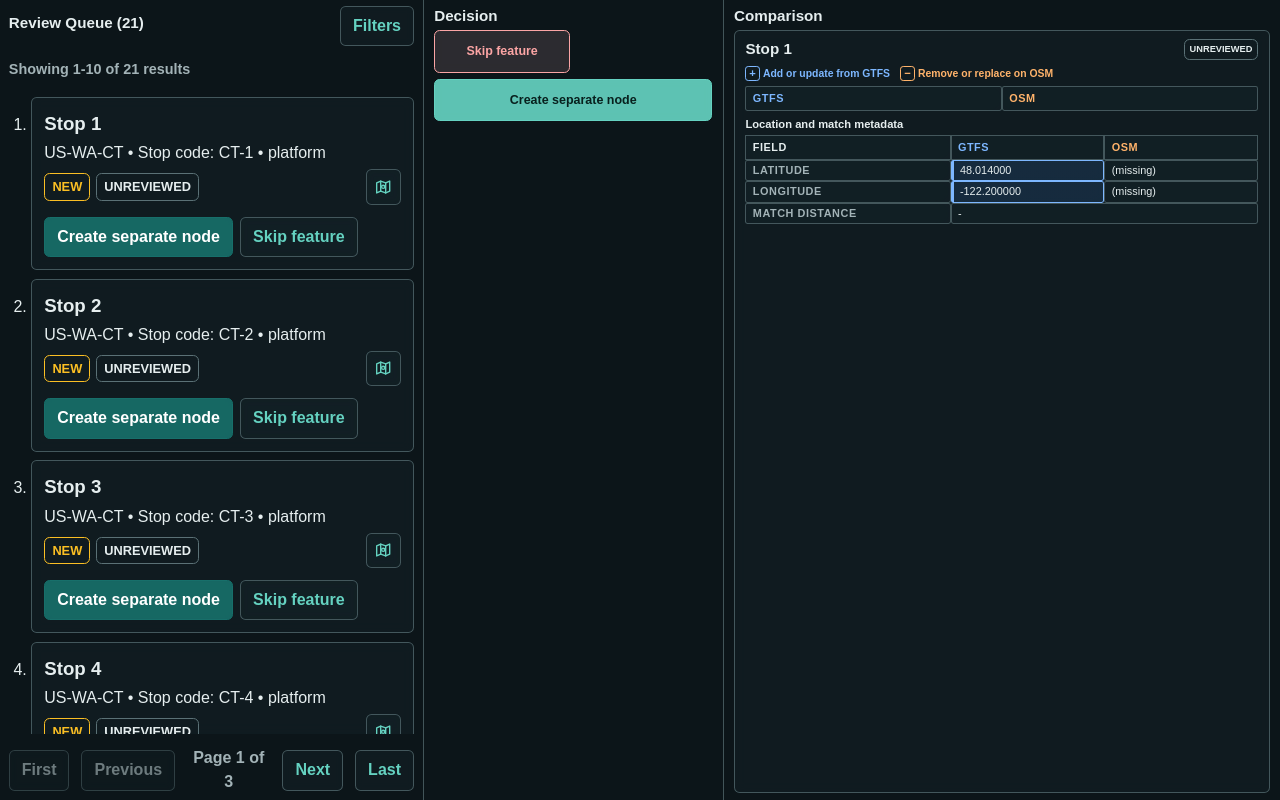
ReviewQueue › jumps directly to the first and last result pages
The width and height of the screenshot is (1280, 800).
Expected: the button "First" is disabled, [9,750,70,791]
Click the button "Last".
click(385, 770)  # box [355,750,414,791]
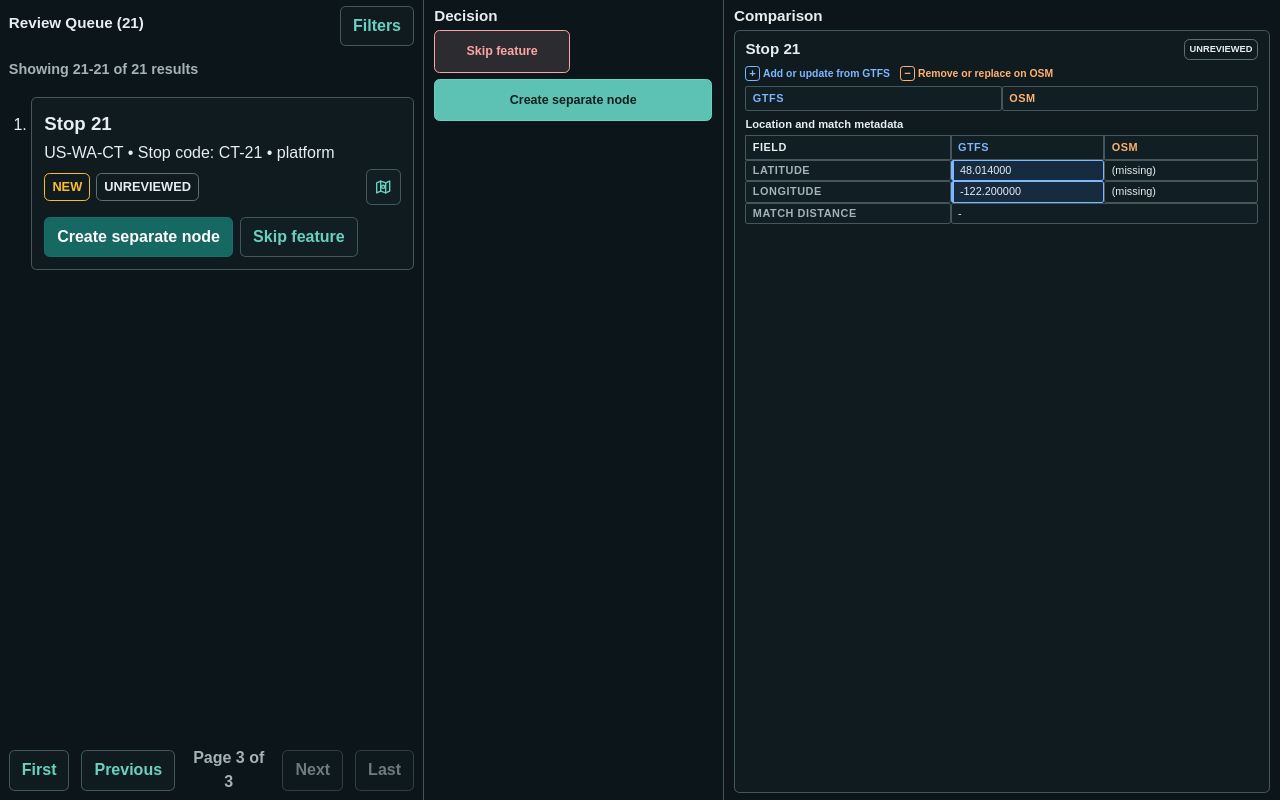
Expected: the text "Page 3 of 3" is shown, [187,746,270,794]
Expected: the text "Showing 21-21 of 21 results" is shown, [9,61,198,77]
Expected: the button "First" is enabled
Click the button "First".
click(39, 770)  # box [9,750,70,791]
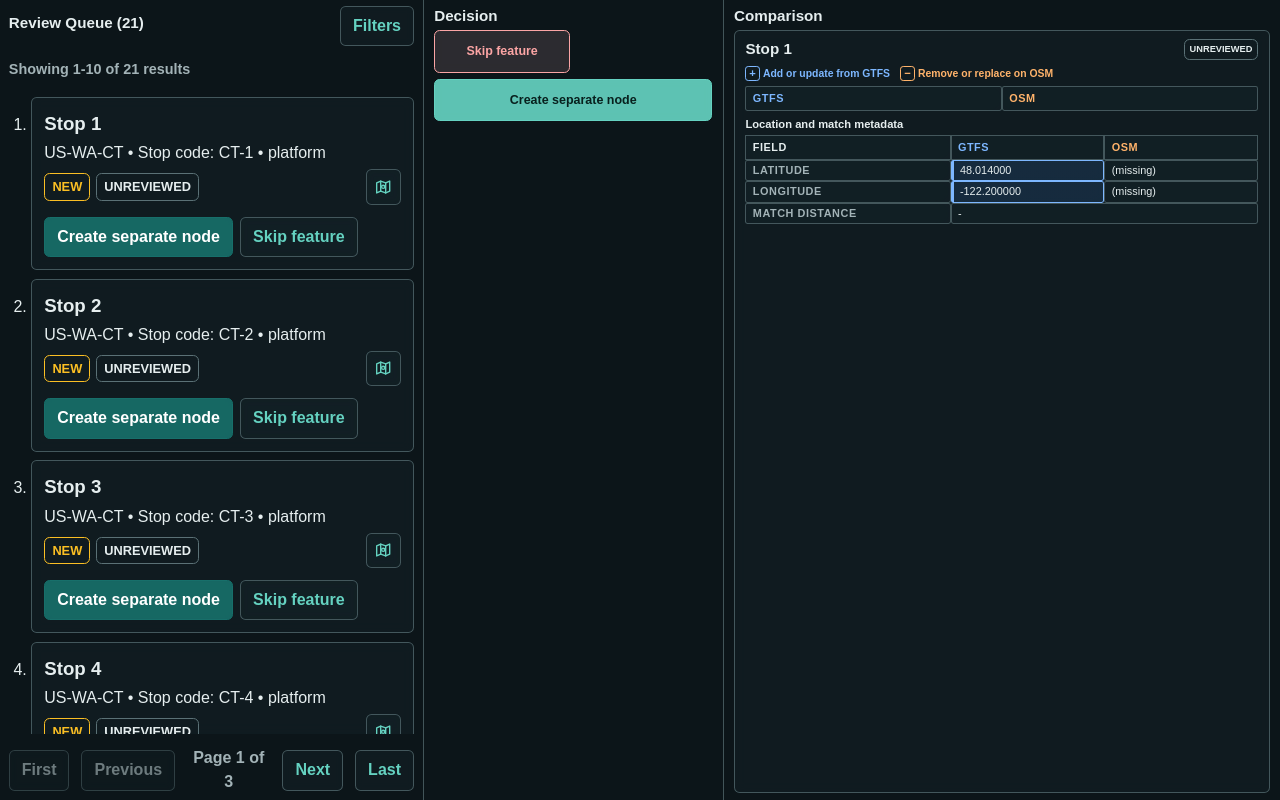
Expected: the text "Page 1 of 3" is shown, [187,746,270,794]
Expected: the text "Showing 1-10 of 21 results" is shown, [9,61,190,77]
Expected: the button "First" is disabled, [9,750,70,791]
